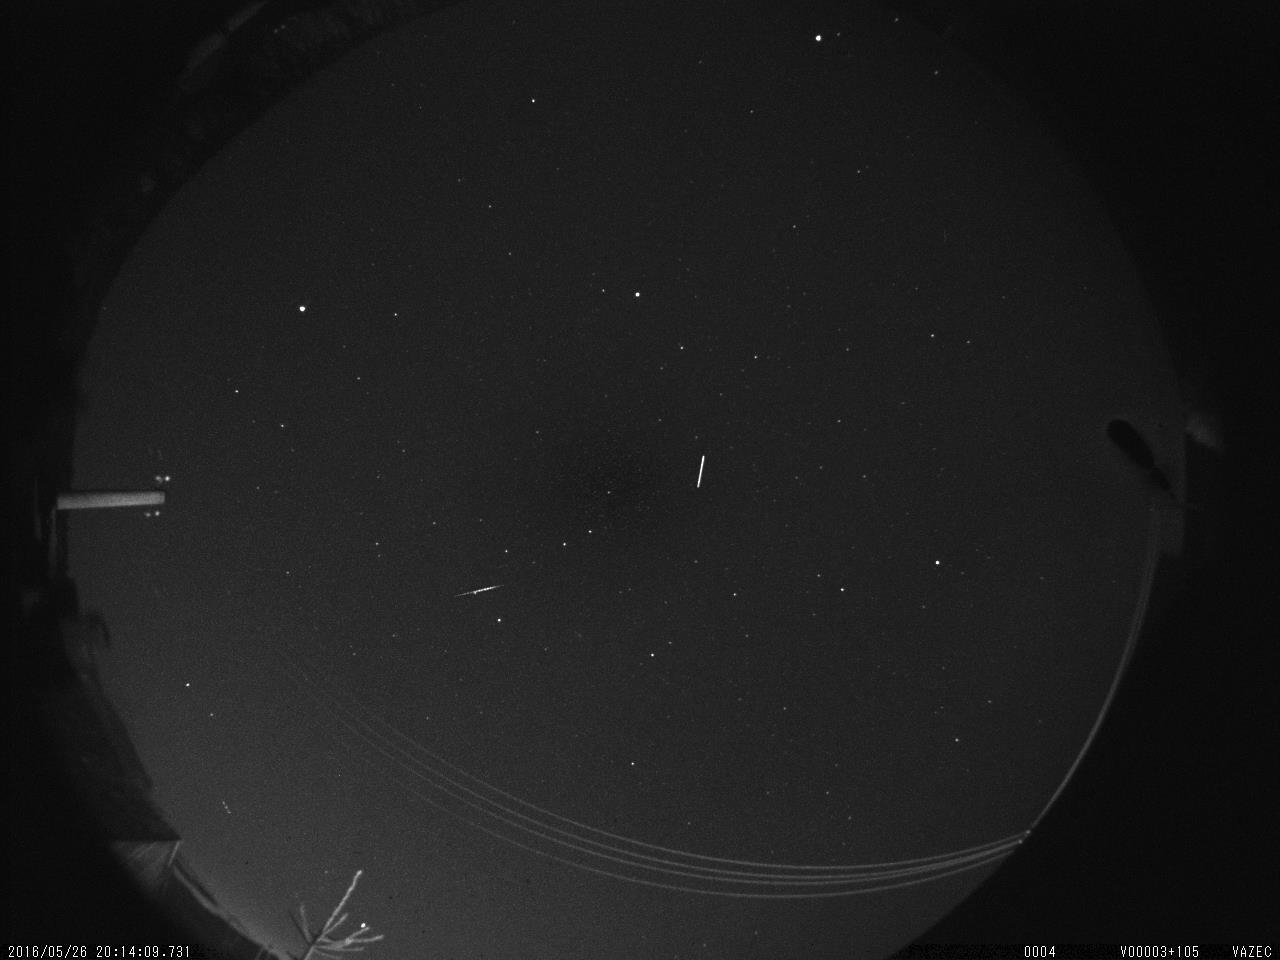Meteor: (455, 580, 503, 599)
